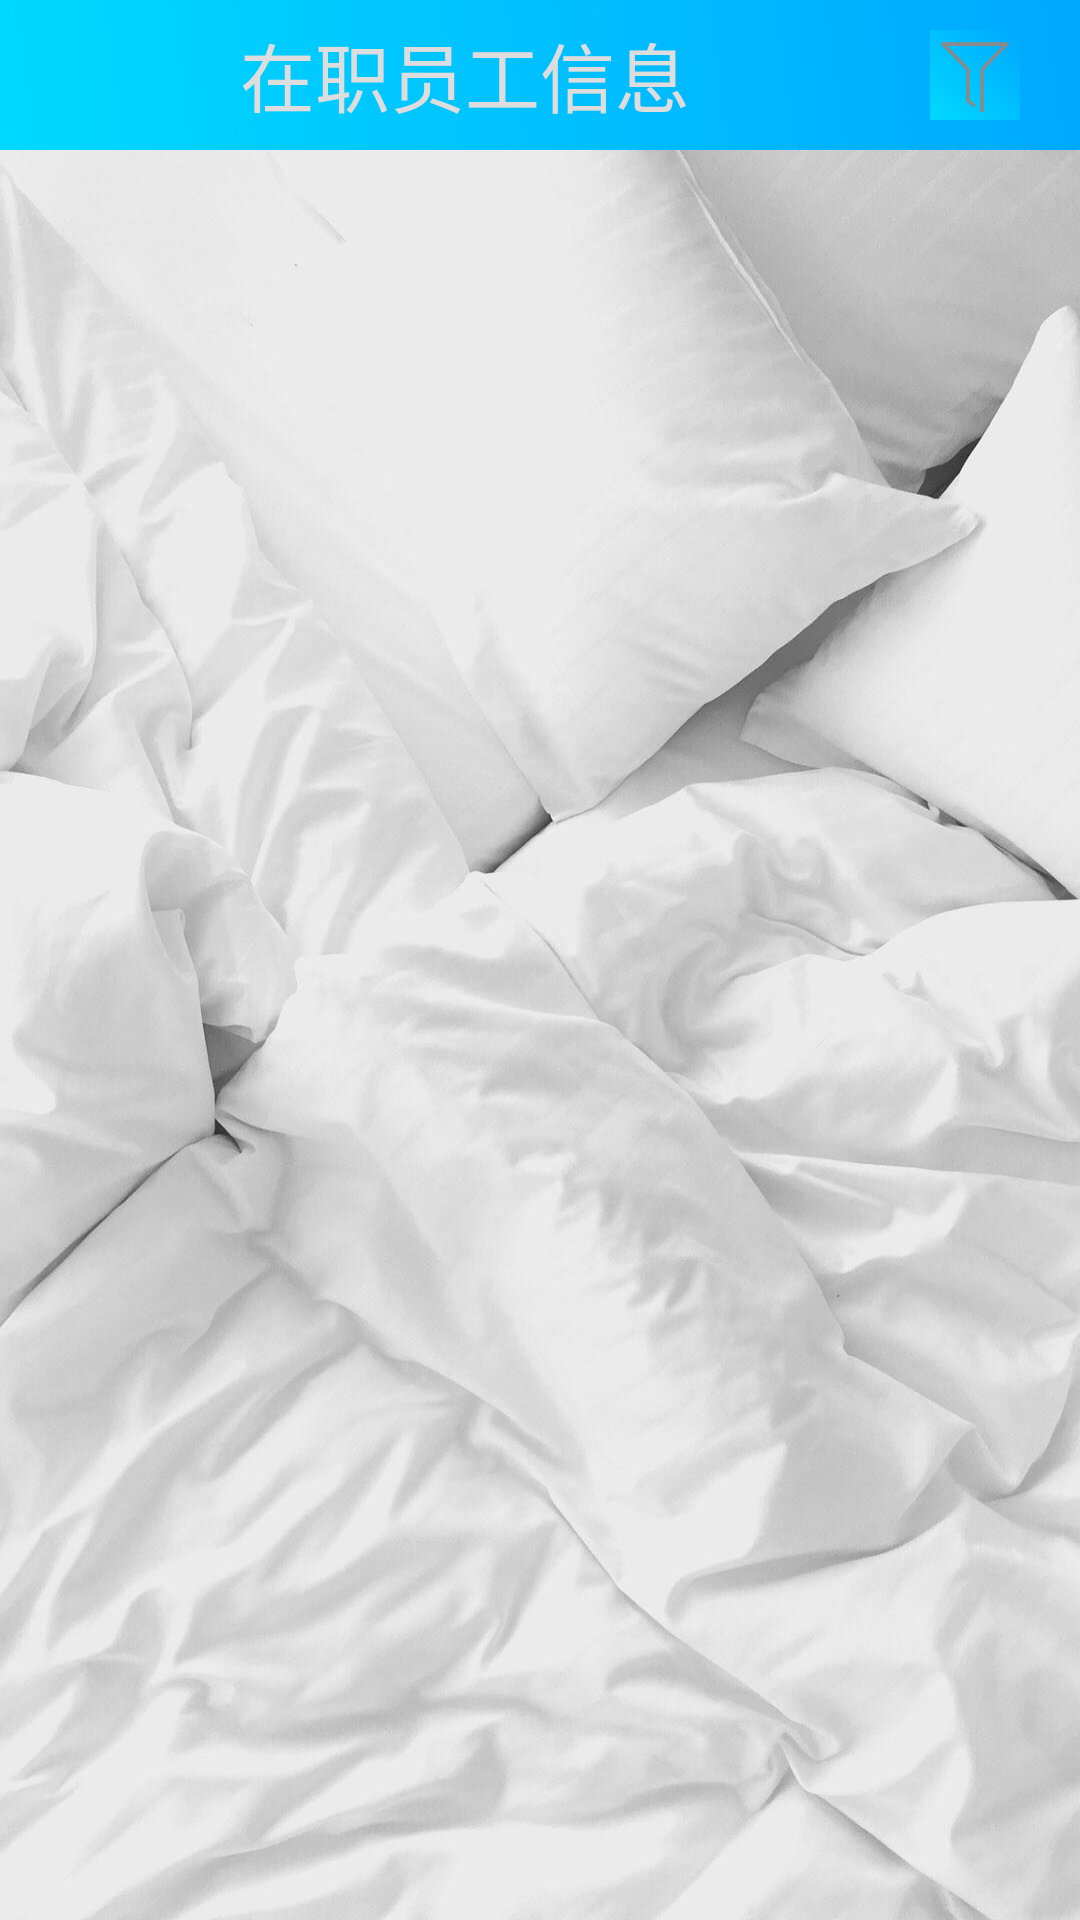

Named icons in this screenshot (1080 x 1920) and their centers, point (x, y):
filter: point (969, 81)
